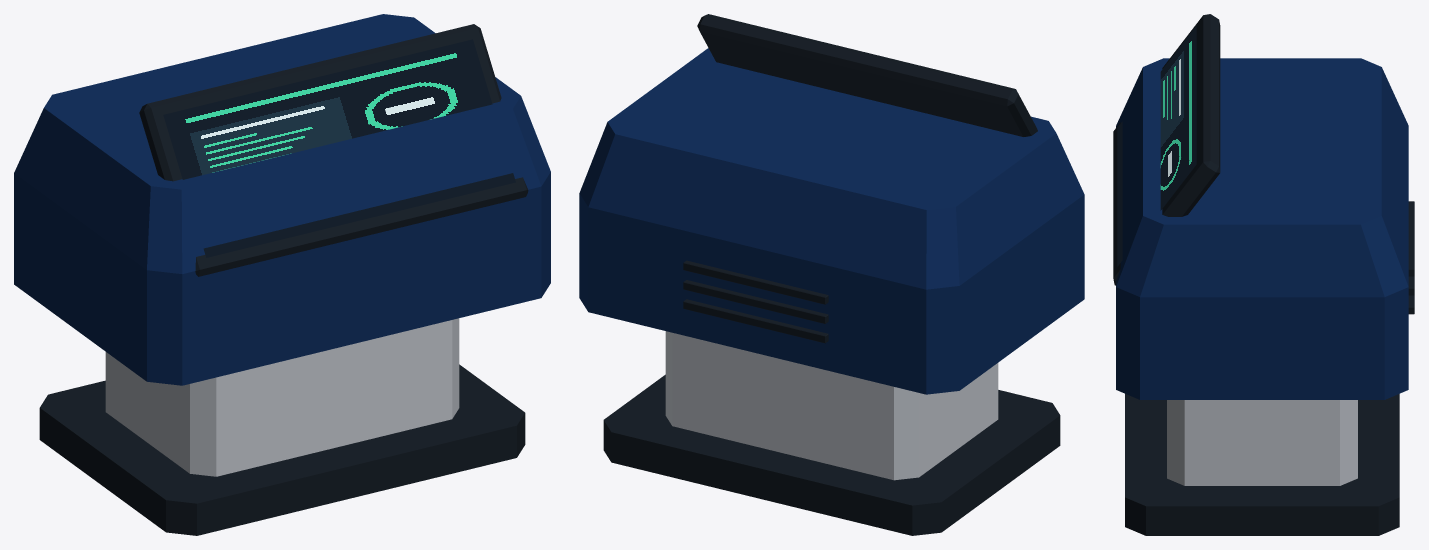
The model's file is terminal-console-standard-daeyang.glb.
3 views of the same model, side by side, from view 1: azimuth 30°, elevation 25°; view 2: azimuth 150°, elevation 25°; view 3: azimuth 270°, elevation 25° (orthographic). The views are drawn at different scales.
Parts seen in each view (by area): view 1: Housing, Rubber, Trim, Display; view 2: Housing, Rubber, Trim; view 3: Housing, Rubber, Trim, Display.
Part boxes in pixels (<box>): Housing: <box>14,14,550,385</box>; Rubber: <box>39,24,528,535</box>; Trim: <box>105,318,459,476</box>; Display: <box>163,39,515,257</box>; Housing: <box>579,48,1084,394</box>; Rubber: <box>603,14,1060,535</box>; Trim: <box>665,331,998,480</box>; Housing: <box>1116,58,1408,399</box>; Rubber: <box>1113,14,1414,535</box>; Trim: <box>1167,400,1357,485</box>; Display: <box>1117,25,1196,266</box>.
Bounding box in the file's own units: 0.72 × 0.6797 × 0.5046.
Materials: 5 (1 with a texture image).
